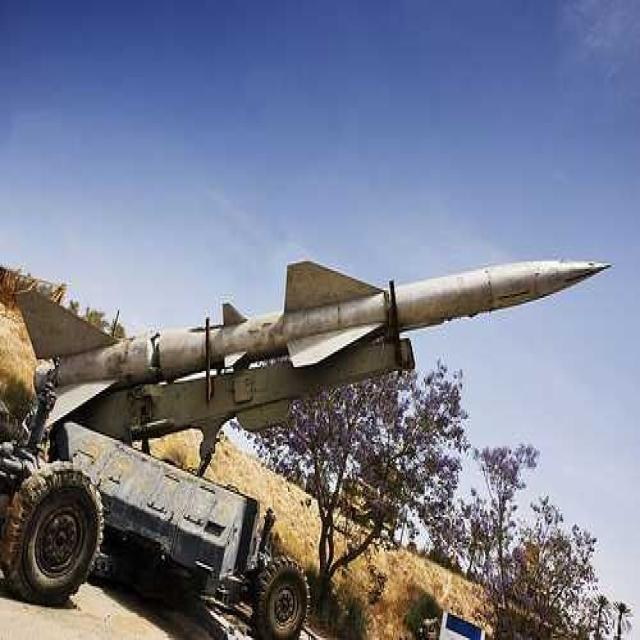missile: (16, 261, 615, 444)
